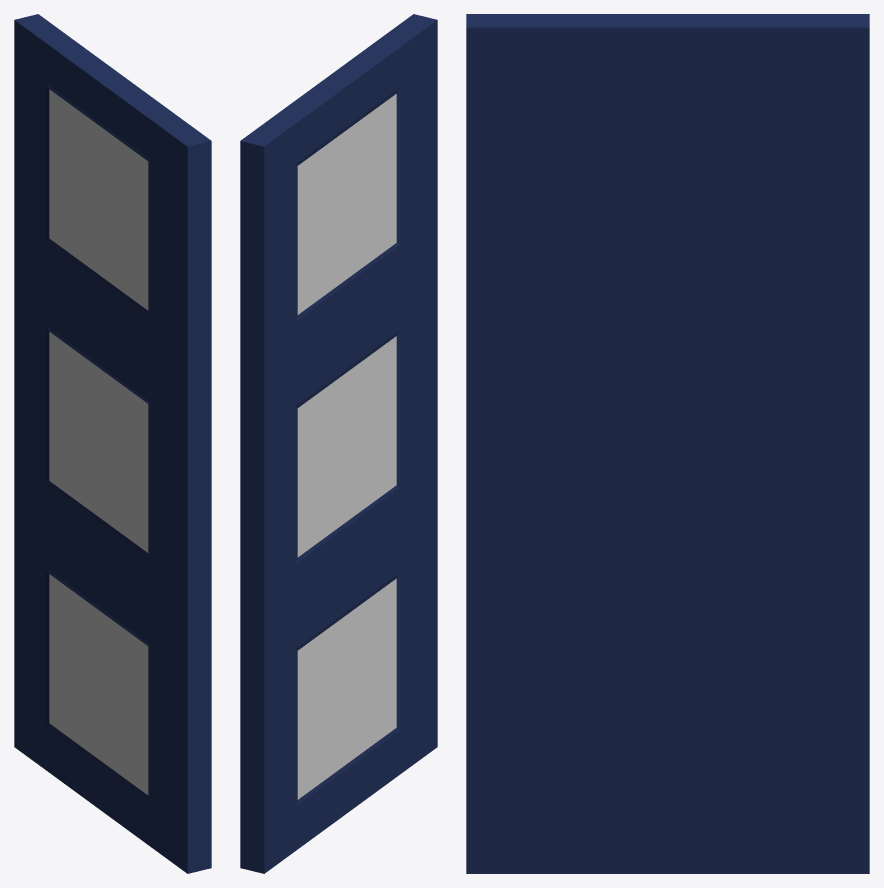
The model's file is One_Side_Ceiling.fbx.
3 views of the same model, side by side, from view 1: azimuth 30°, elevation 25°; view 2: azimuth 150°, elevation 25°; view 3: azimuth 270°, elevation 25° (orthographic). The views are drawn at different scales.
Visible parts, largest first — view 1: Floorboard1; view 2: Floorboard1; view 3: Floorboard1.
Part boxes in pixels (<box>): Floorboard1: <box>14,14,211,873</box>; Floorboard1: <box>240,14,437,873</box>; Floorboard1: <box>466,14,869,873</box>.
Size of the model in its own units: 283 by 8192 by 3540.
